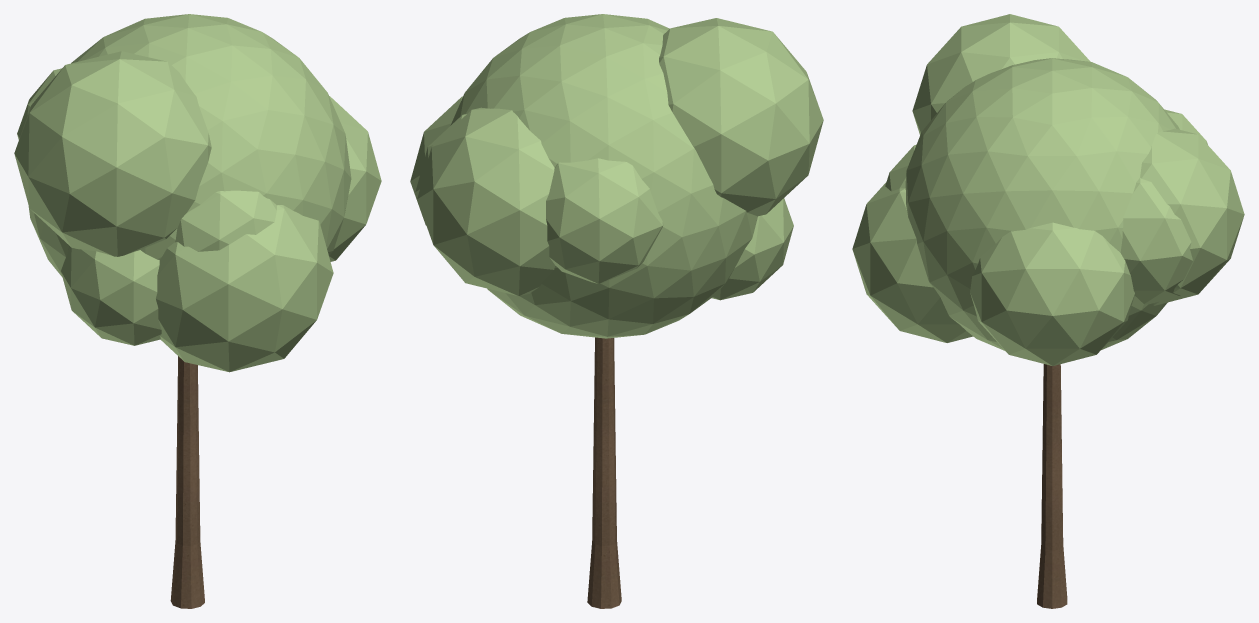
Rendered from tree_b.glb.
The picture shows the model from 3 angles, left to right: view 1: azimuth 30°, elevation 25°; view 2: azimuth 150°, elevation 25°; view 3: azimuth 270°, elevation 25°; orthographic projection. The views are drawn at different scales.
Parts seen in each view (by area): view 1: tree_b_leaf2, tree_b_bark; view 2: tree_b_leaf2, tree_b_bark; view 3: tree_b_leaf2, tree_b_bark.
Part boxes in pixels (x1=…): tree_b_leaf2: x1=14, y1=14, x2=381, y2=372; tree_b_bark: x1=170, y1=356, x2=204, y2=608; tree_b_leaf2: x1=410, y1=14, x2=823, y2=338; tree_b_bark: x1=587, y1=337, x2=621, y2=608; tree_b_leaf2: x1=852, y1=14, x2=1244, y2=365; tree_b_bark: x1=1037, y1=364, x2=1067, y2=608.
Size of the model in its own units: 4.36 by 6.67 by 4.4.
2 materials, 1 textured.
